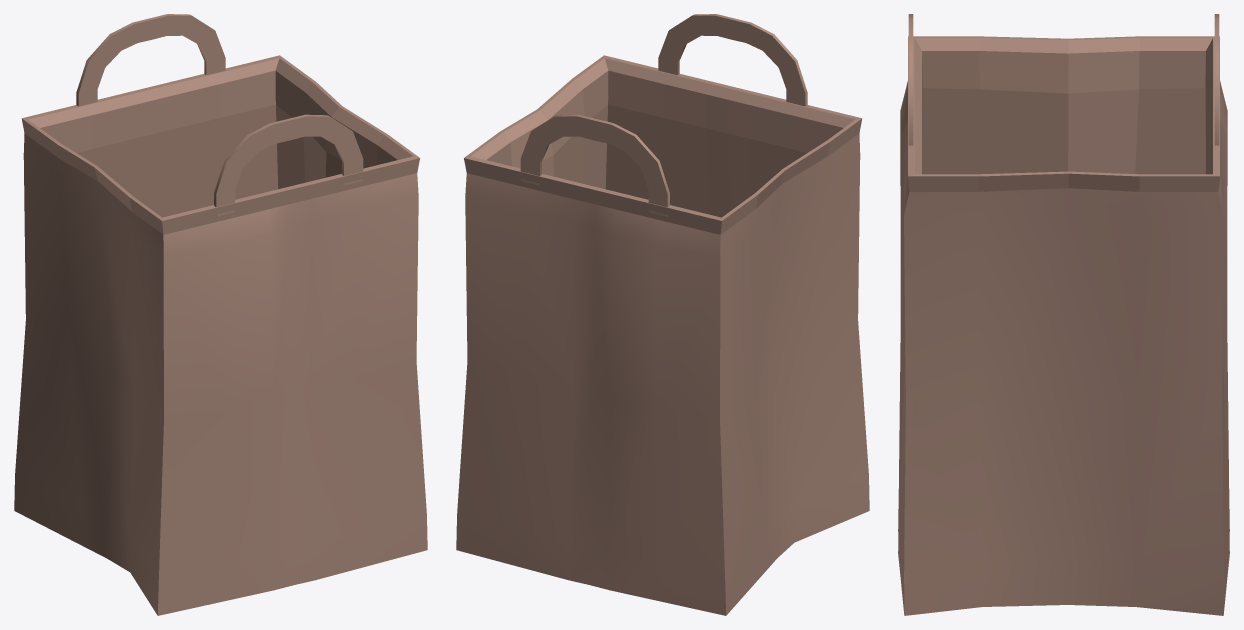
The model's file is SM_bag_01.fbx.
The picture shows the model from 3 angles, left to right: view 1: azimuth 30°, elevation 25°; view 2: azimuth 150°, elevation 25°; view 3: azimuth 270°, elevation 25°; orthographic projection. The views are drawn at different scales.
Visible parts, largest first — view 1: bag_01; view 2: bag_01; view 3: bag_01.
Part boxes in pixels (x1=…): bag_01: x1=14, y1=14, x2=427, y2=615; bag_01: x1=456, y1=14, x2=869, y2=615; bag_01: x1=898, y1=14, x2=1229, y2=615.
Bounding box in the file's own units: 39.35 × 64.27 × 37.66.
